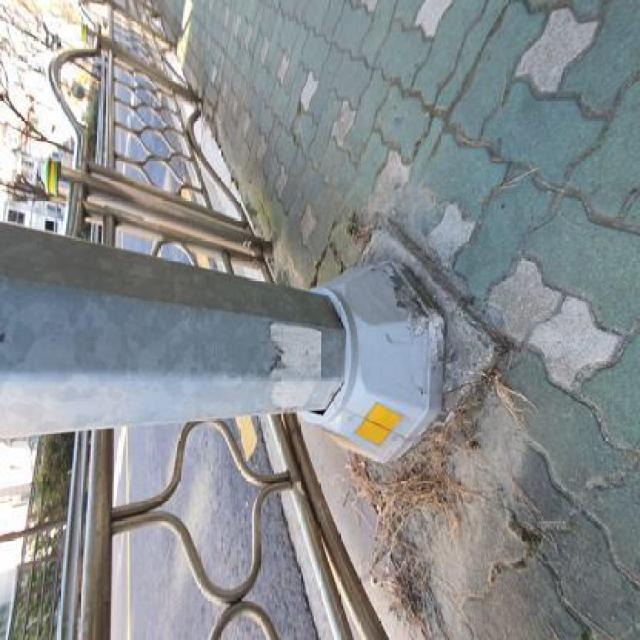fence: (39, 20, 264, 231)
pole: (3, 211, 469, 494)
